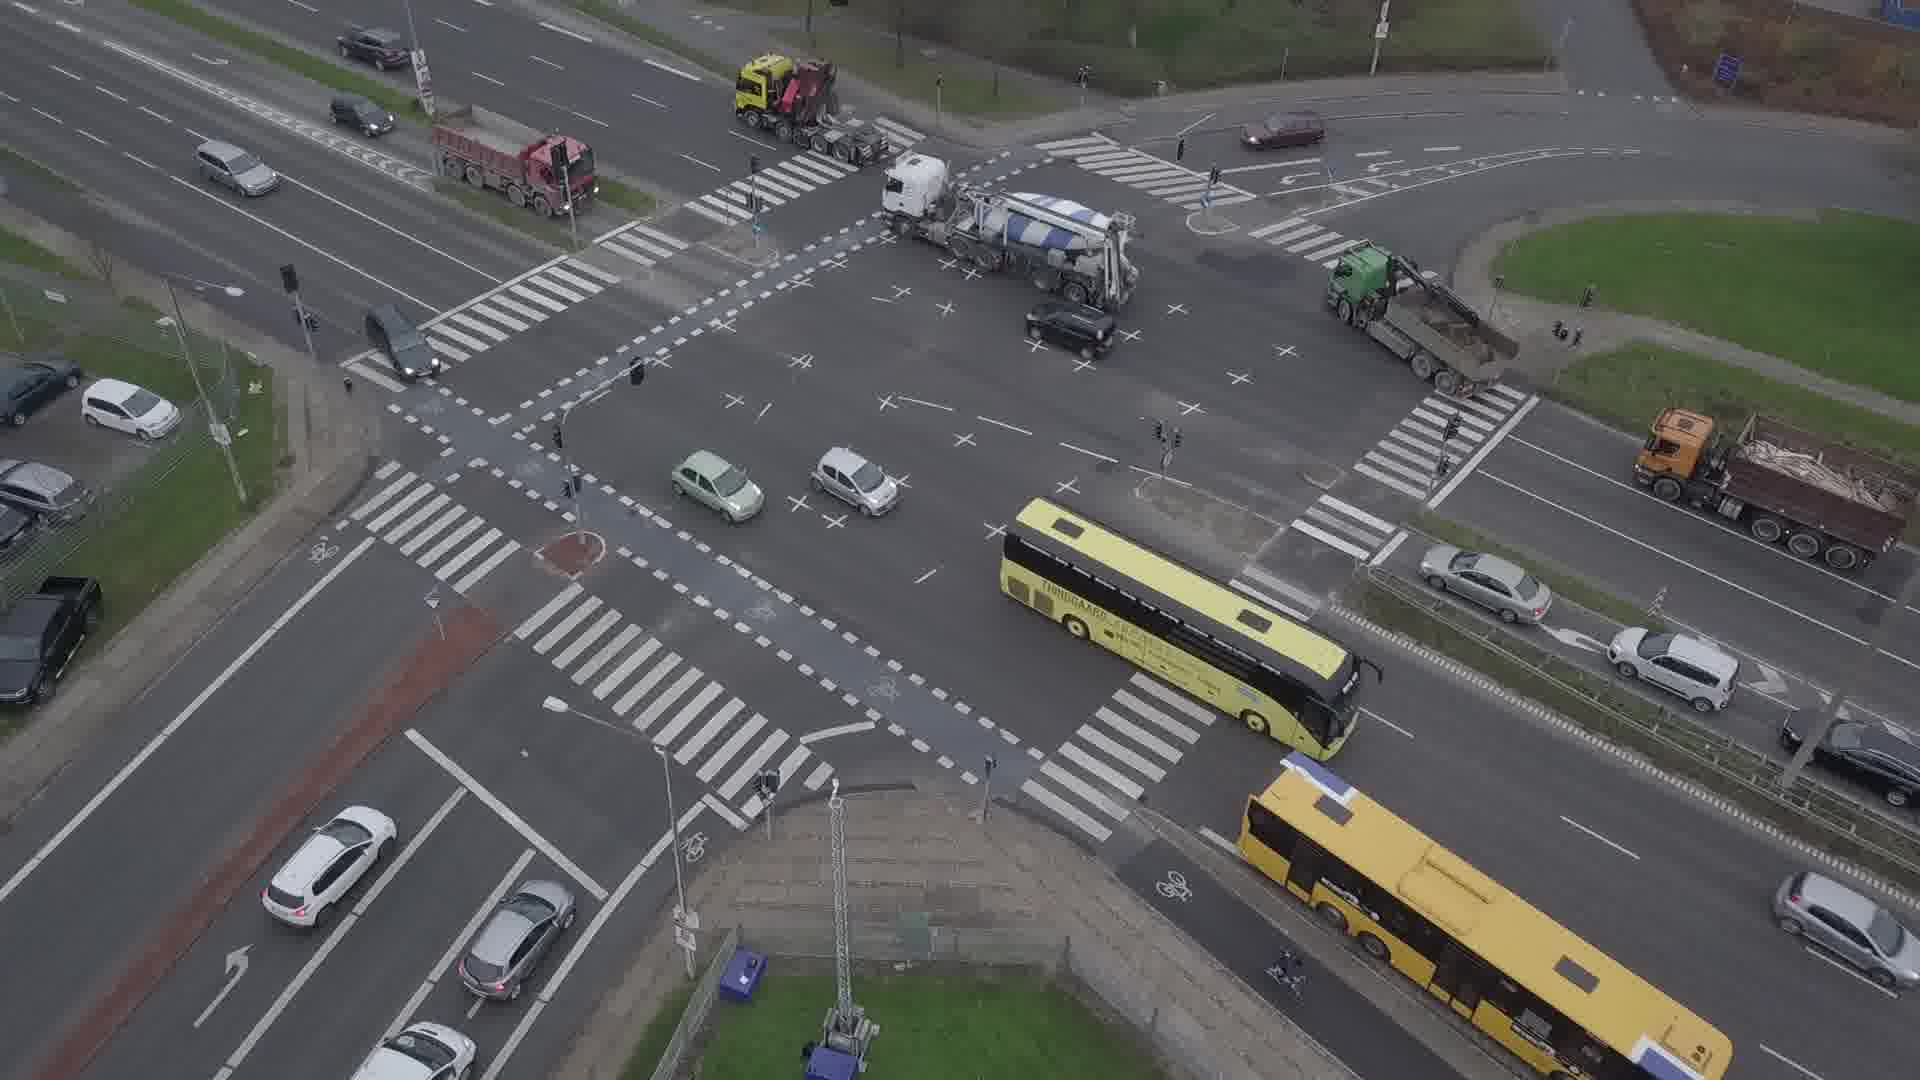bicycle: (1269, 947, 1305, 996)
car: (1774, 872, 1920, 986), (262, 806, 398, 926), (458, 880, 576, 1002), (1782, 709, 1920, 807), (1606, 626, 1741, 713), (1418, 545, 1553, 626), (671, 450, 765, 522), (811, 448, 899, 516), (365, 305, 440, 378), (1025, 305, 1116, 360), (193, 138, 276, 196), (1240, 109, 1325, 149), (328, 91, 396, 138), (336, 26, 411, 69)
